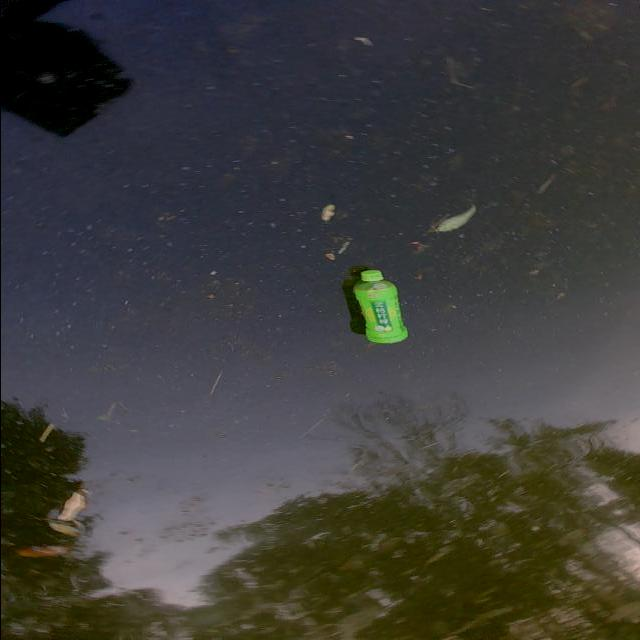bottle: (346, 254, 412, 360)
